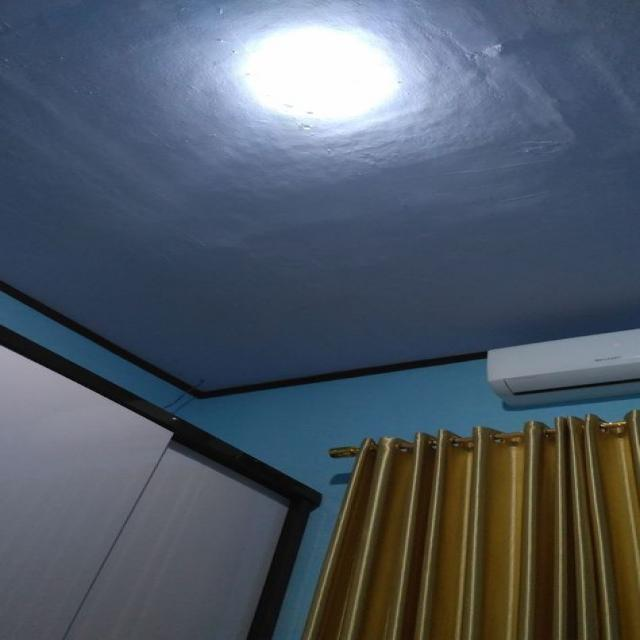AC: (484, 326, 639, 406)
